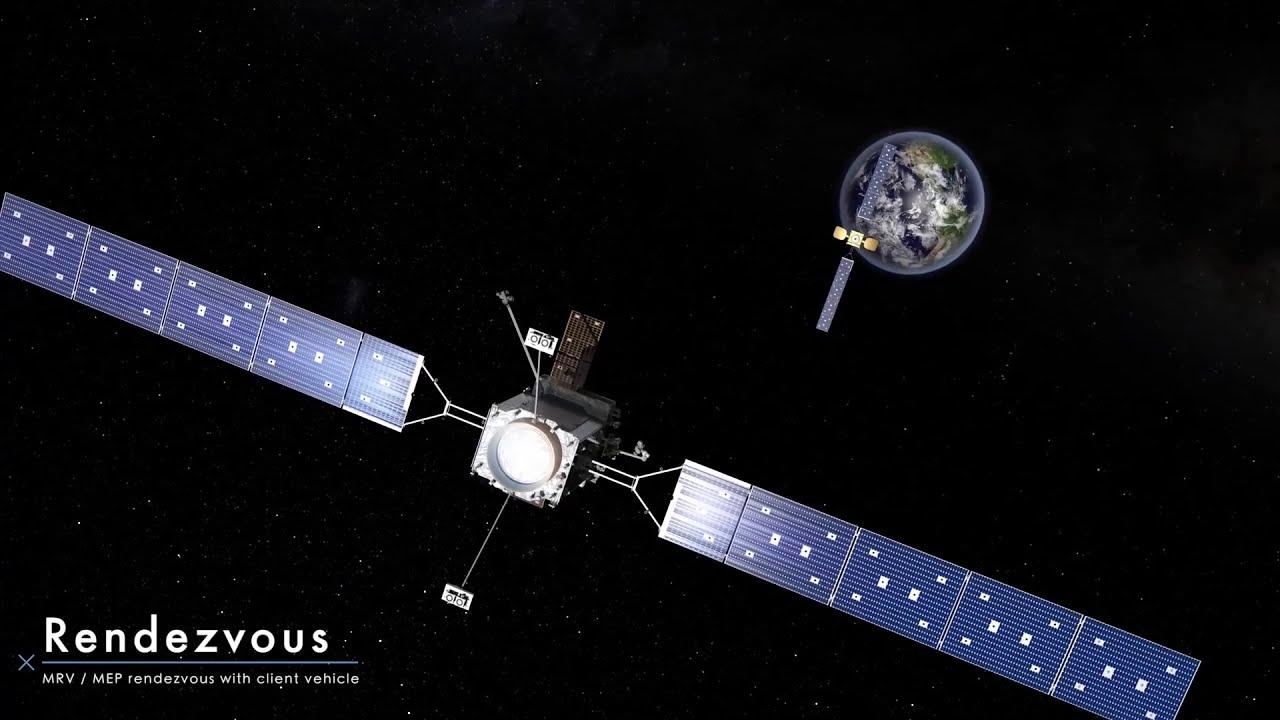antenna: (439, 495, 513, 614), (523, 327, 560, 425), (832, 225, 848, 241), (863, 237, 879, 252)
body: (468, 373, 624, 511), (846, 229, 864, 249)
solar: (655, 458, 1203, 720), (0, 190, 428, 433), (550, 309, 607, 391), (857, 142, 897, 221), (815, 256, 855, 333)
thruster: (485, 416, 562, 492), (851, 235, 860, 243)
